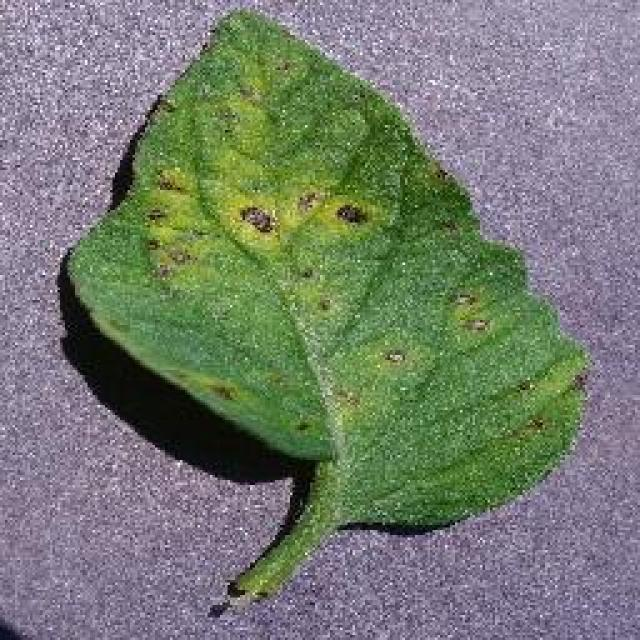Tomato Septoria spot leaf: (65, 10, 587, 525)
